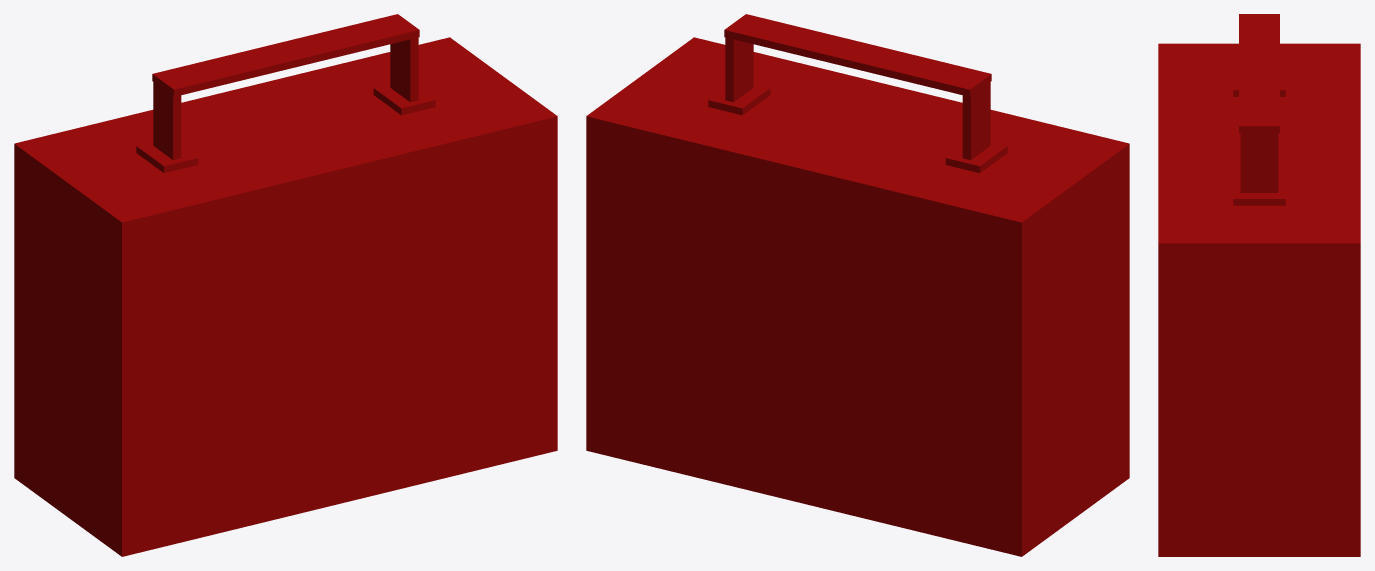
Rendered from First-Aid Kit.fbx.
3 renders of one model, left to right at view 1: azimuth 30°, elevation 25°; view 2: azimuth 150°, elevation 25°; view 3: azimuth 270°, elevation 25°, orthographic. The views are drawn at different scales.
Visible parts, largest first — view 1: First_Aid; view 2: First_Aid; view 3: First_Aid.
Boxes of the visible parts, <box> form: First_Aid: <box>14,14,557,556</box>; First_Aid: <box>586,14,1129,556</box>; First_Aid: <box>1158,14,1360,556</box>.
Size of the model in its own units: 238 by 215 by 102.
